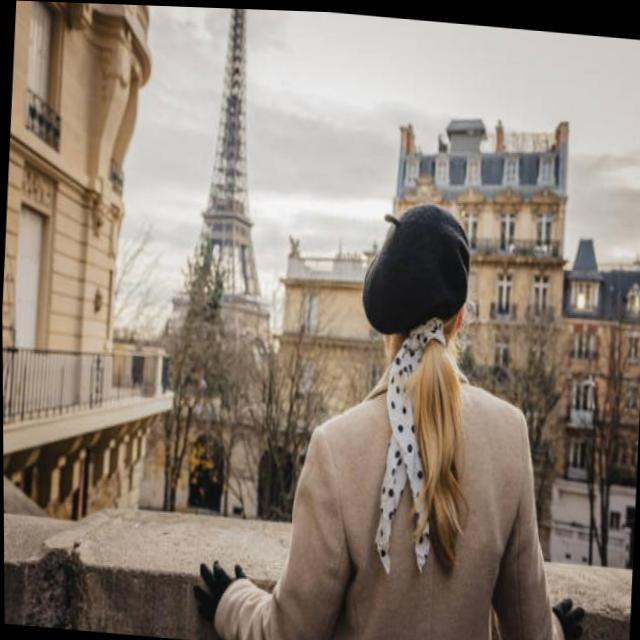no helmet: (334, 183, 485, 572)
